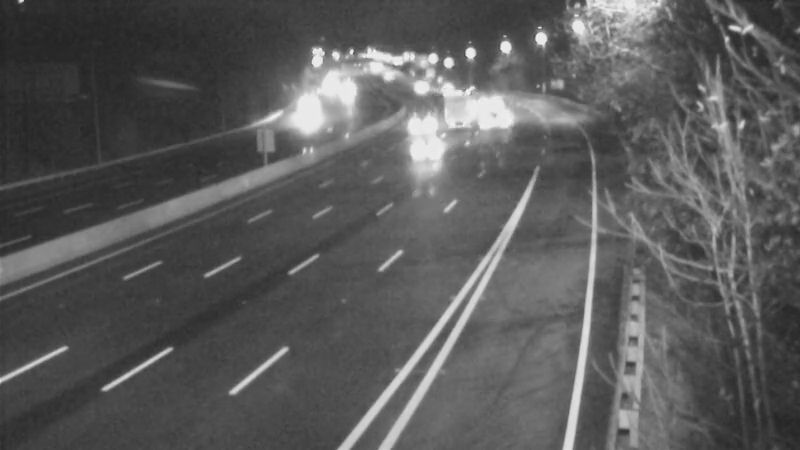vehicle: (394, 63, 444, 113), (418, 64, 468, 114), (463, 77, 513, 127), (432, 78, 482, 128), (471, 95, 521, 145), (391, 103, 441, 153), (403, 124, 453, 174), (281, 82, 331, 132), (320, 68, 370, 118)
